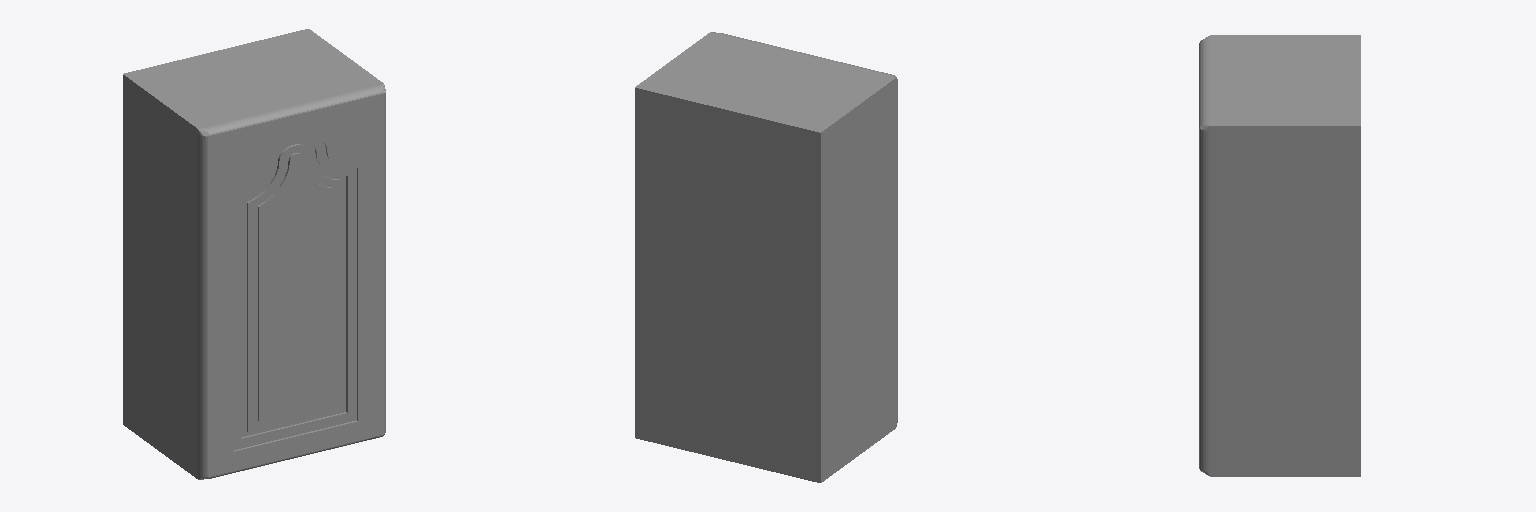
File: single-wall-unit-400.obj
3 views of the same model, side by side, from view 1: azimuth 30°, elevation 25°; view 2: azimuth 150°, elevation 25°; view 3: azimuth 270°, elevation 25° (orthographic).
Parts seen in each view (by area): view 1: Cube.003_Cube.008, Cube.002_Cube.004, Cube_Cube.002; view 2: Cube_Cube.002, Cube.002_Cube.004, Cube.001_Cube.003, Cube.003_Cube.008; view 3: Cube.001_Cube.003, Cube_Cube.002, Cube.003_Cube.008, Cube.002_Cube.004.
Boxes of the visible parts, <box> form: Cube.003_Cube.008: <box>198,84,385,479</box>; Cube.002_Cube.004: <box>123,72,203,478</box>; Cube_Cube.002: <box>130,30,375,126</box>; Cube_Cube.002: <box>642,34,887,481</box>; Cube.002_Cube.004: <box>814,76,895,482</box>; Cube.001_Cube.003: <box>635,33,715,439</box>; Cube.003_Cube.008: <box>710,32,897,426</box>; Cube.001_Cube.003: <box>1210,123,1360,476</box>; Cube_Cube.002: <box>1210,39,1360,122</box>; Cube.003_Cube.008: <box>1199,36,1209,475</box>; Cube.002_Cube.004: <box>1210,35,1360,38</box>.
Bounding box in the file's own units: 80 × 144 × 60.